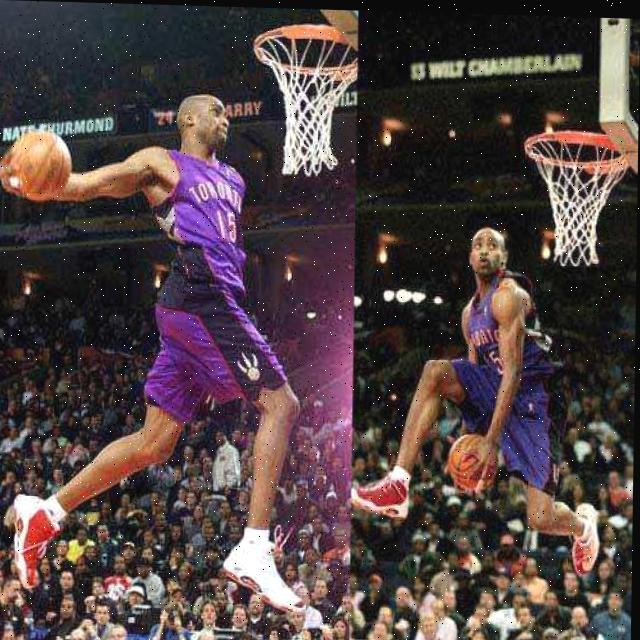basketball: (9, 128, 74, 202), (446, 431, 501, 495)
hoop: (254, 23, 360, 177), (524, 128, 628, 266)
